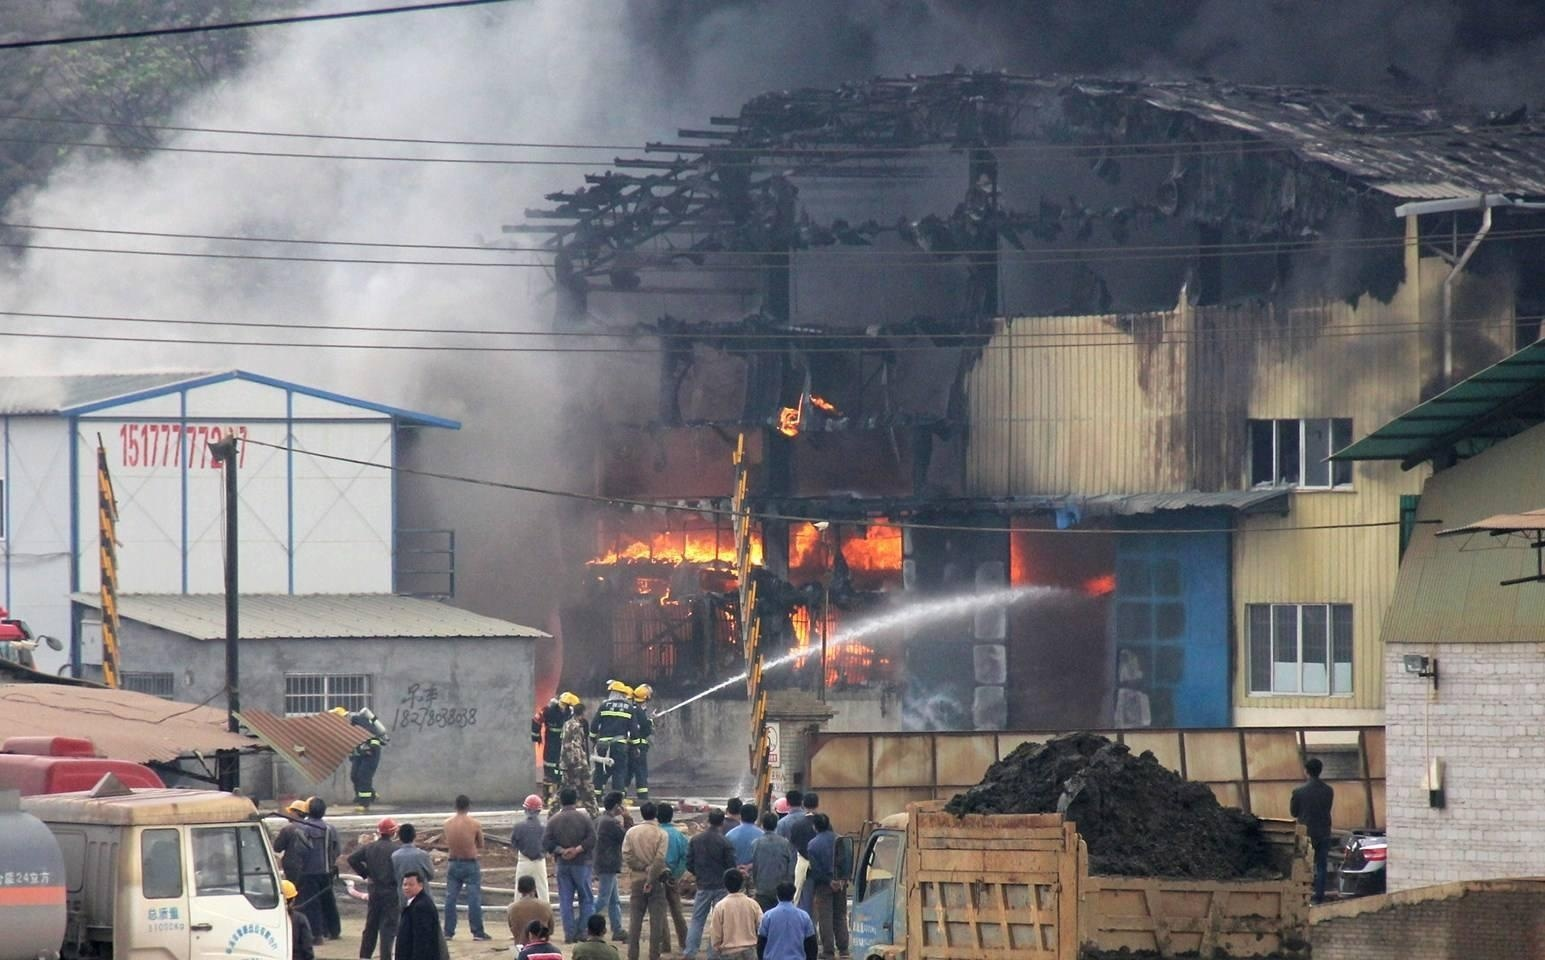fire: (597, 525, 745, 572), (782, 611, 878, 681), (797, 519, 900, 568), (772, 390, 837, 435), (1081, 572, 1116, 595)
